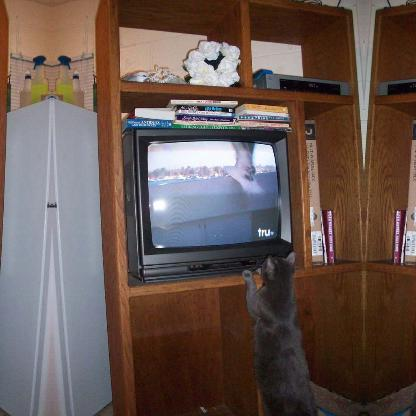Cat: (242, 252, 318, 414)
